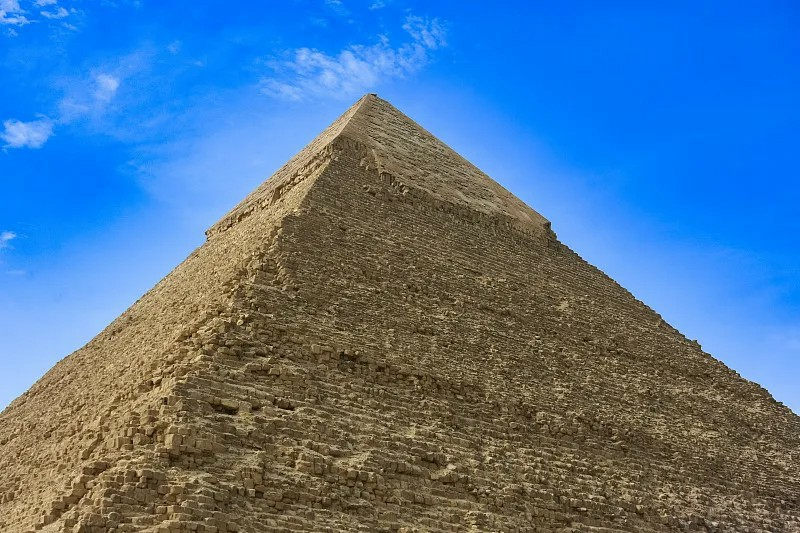Pyramid: (1, 94, 800, 533)
